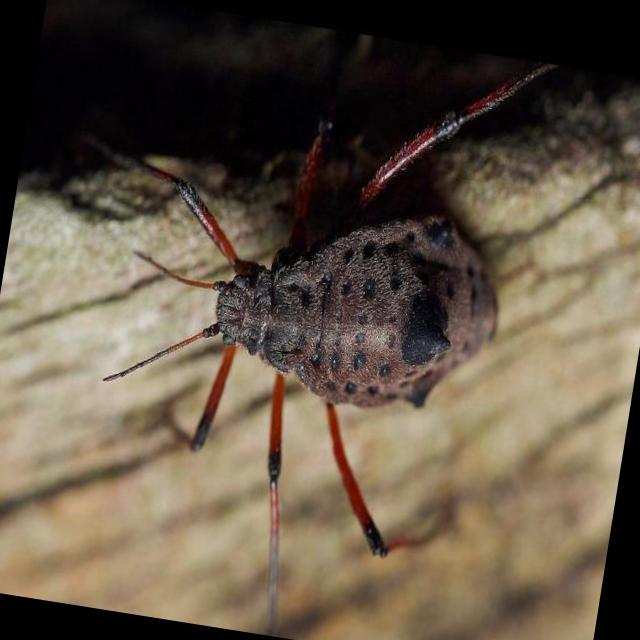aphid: (76, 36, 597, 586)
